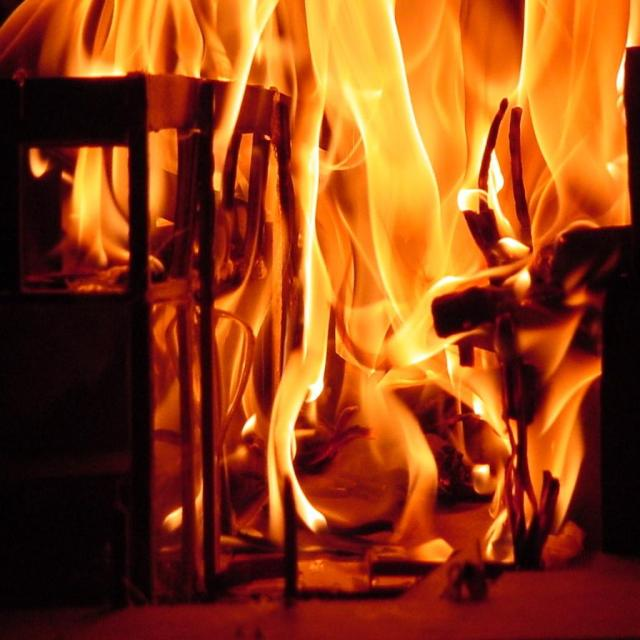Fire: (71, 1, 639, 557)
